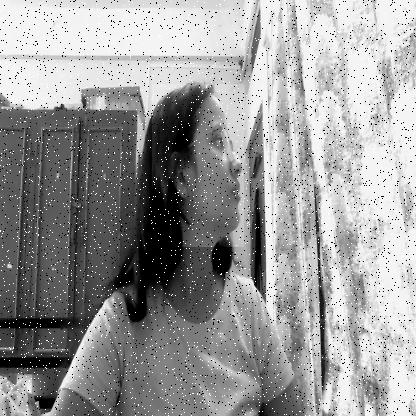Distracted: (152, 84, 244, 247)
